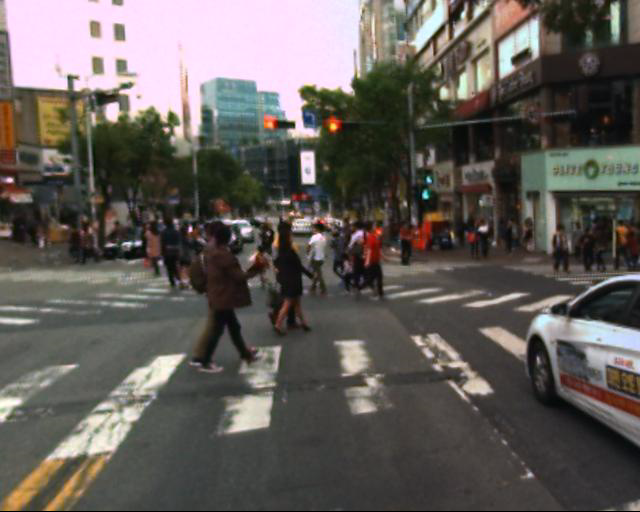person: (175, 210, 264, 384), (265, 212, 319, 340), (435, 217, 532, 277), (540, 220, 640, 274), (353, 212, 405, 309), (200, 216, 244, 289), (345, 219, 378, 308), (309, 219, 340, 305), (156, 219, 189, 299), (142, 214, 168, 280), (249, 243, 276, 297)
